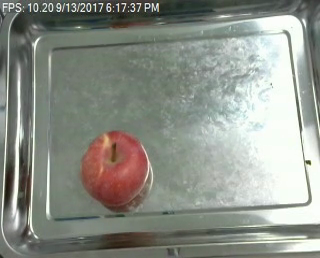Apple: (80, 129, 152, 205)
